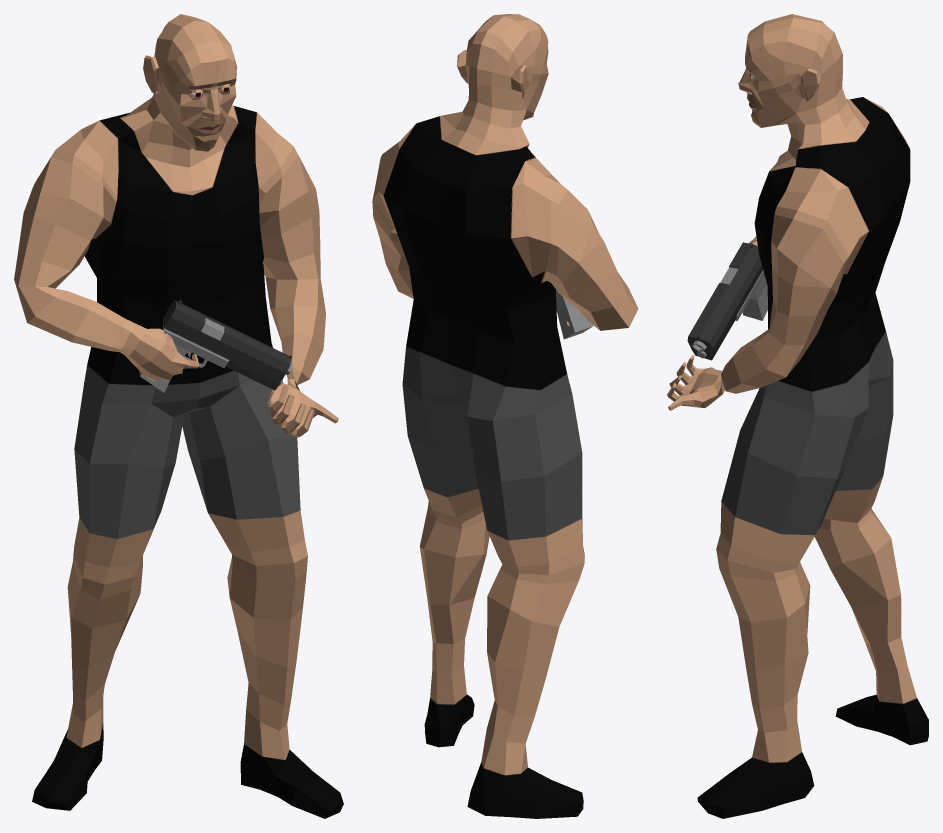
Rendered from PlayerIdle(73).obj.
3 views of the same model, side by side, from view 1: azimuth 30°, elevation 25°; view 2: azimuth 150°, elevation 25°; view 3: azimuth 270°, elevation 25° (orthographic). The views are drawn at different scales.
Parts seen in each view (by area): view 1: Plane002, Box003; view 2: Plane002, Box003; view 3: Plane002, Box003.
Boxes of the visible parts, x1=… form: Plane002: x1=14, y1=14, x2=343, y2=818; Box003: x1=139, y1=300, x2=292, y2=392; Plane002: x1=372, y1=14, x2=638, y2=818; Box003: x1=556, y1=290, x2=593, y2=339; Plane002: x1=667, y1=14, x2=928, y2=818; Box003: x1=687, y1=242, x2=767, y2=360.
Bounding box in the file's own units: 669 × 1799 × 570.
